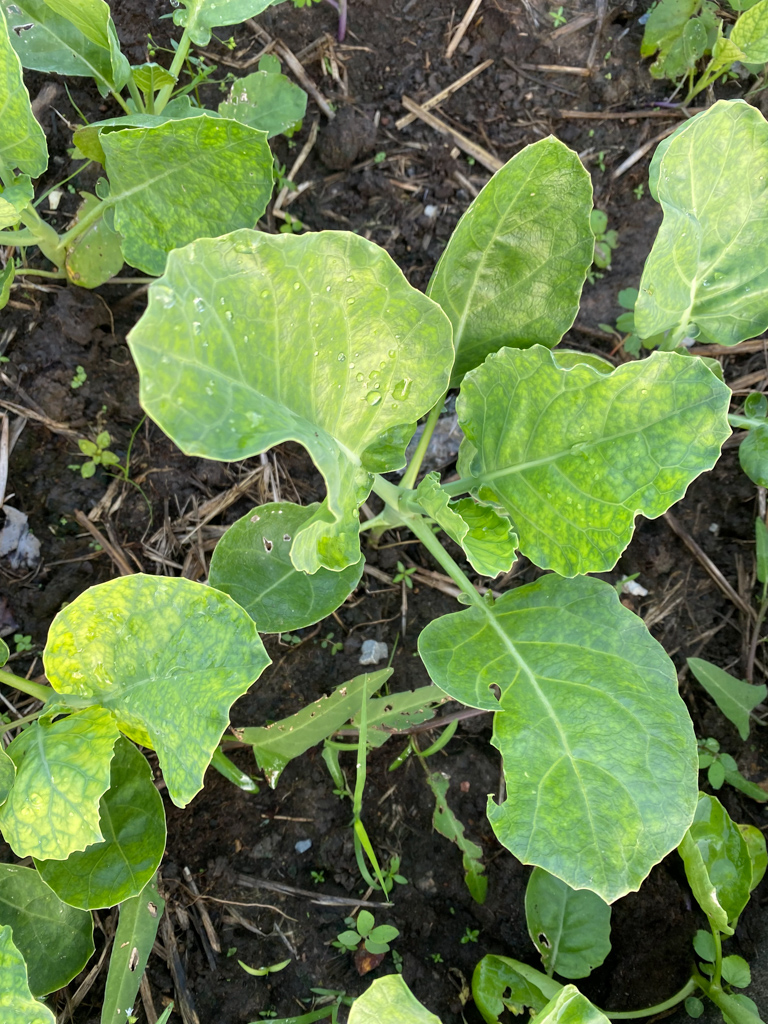Pepper yellow leaf: (36, 573, 196, 751), (5, 722, 113, 867)
